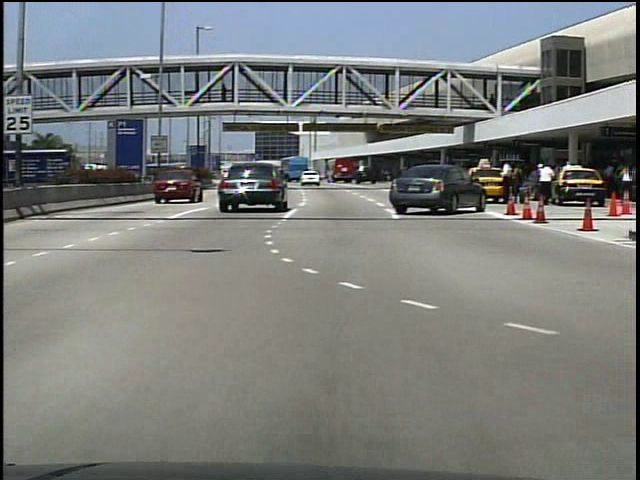person: (531, 158, 555, 205), (496, 160, 515, 204), (534, 160, 551, 203), (219, 84, 230, 106)
